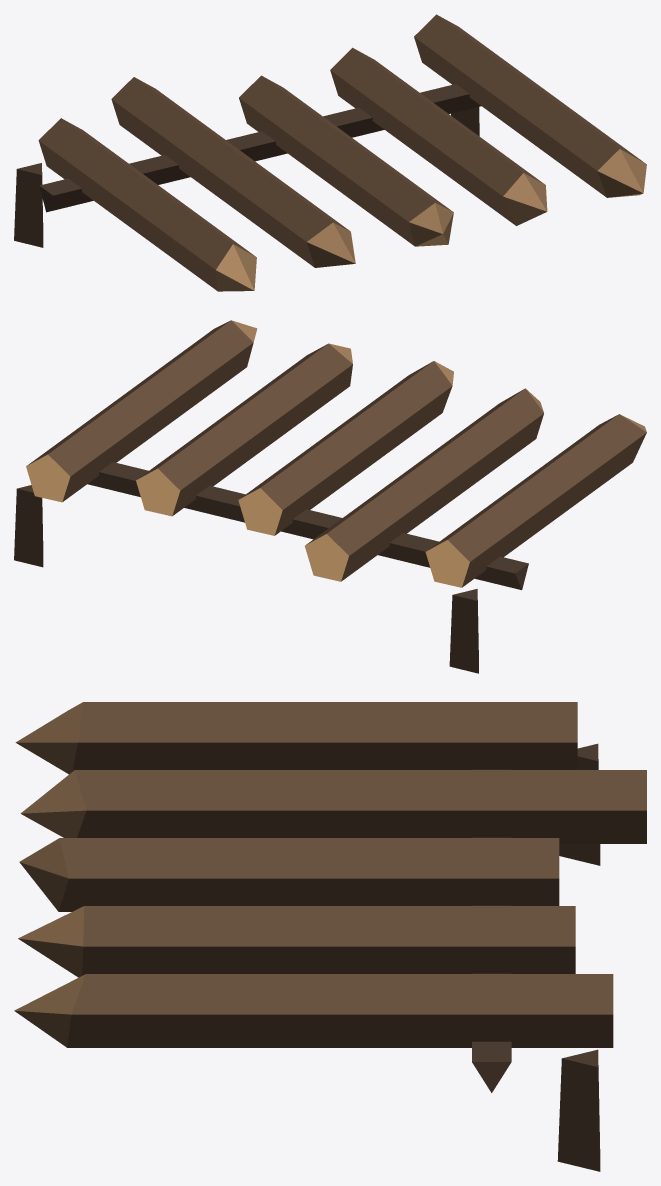
The model's file is log-bridge-end.glb.
3 views of the same model, one above another, from view 1: azimuth 30°, elevation 25°; view 2: azimuth 150°, elevation 25°; view 3: azimuth 270°, elevation 25° (orthographic). The views are drawn at different scales.
Parts seen in each view (by area): view 1: log-bridge-end; view 2: log-bridge-end; view 3: log-bridge-end.
Part boxes in pixels (<box>): log-bridge-end: <box>14,14,646,291</box>; log-bridge-end: <box>14,320,646,673</box>; log-bridge-end: <box>14,702,646,1171</box>.
Size of the model in its own units: 5.88 by 1.4 by 4.7.
